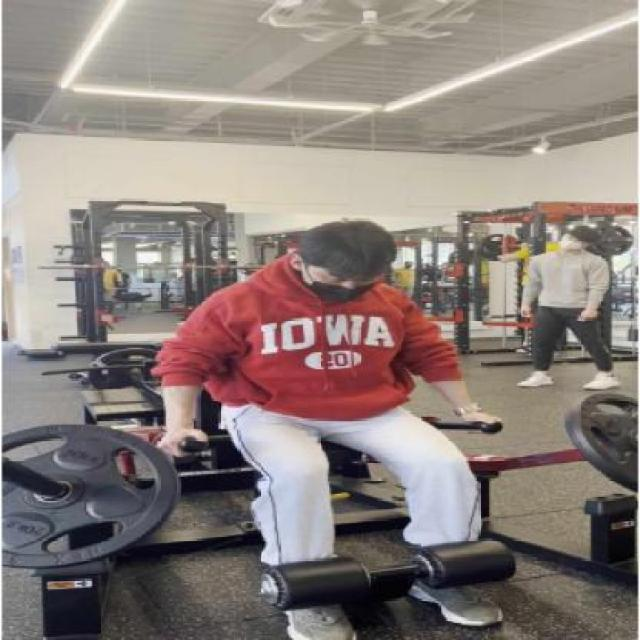seated dip machine: (17, 209, 569, 640)
